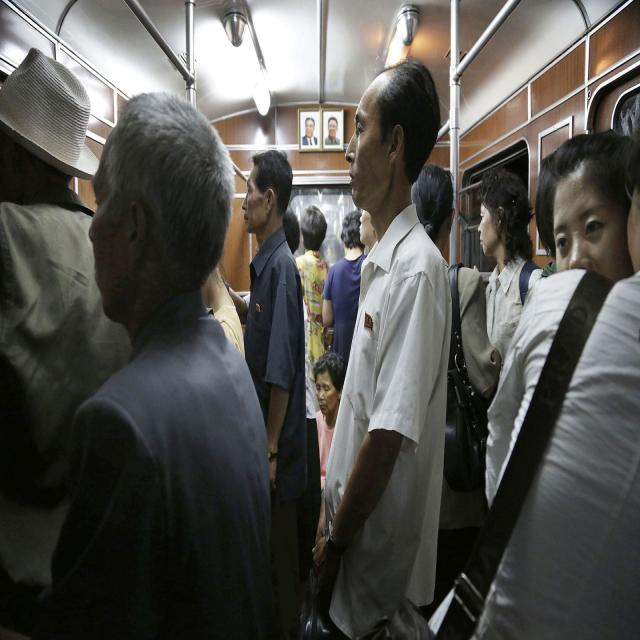body: (51, 86, 281, 622), (473, 127, 639, 640), (310, 53, 454, 640), (0, 44, 133, 639), (410, 162, 503, 624), (239, 148, 309, 640), (284, 205, 344, 566), (531, 123, 633, 280), (474, 167, 544, 370), (322, 208, 369, 371), (206, 255, 246, 365), (294, 111, 342, 149), (358, 209, 376, 246)
